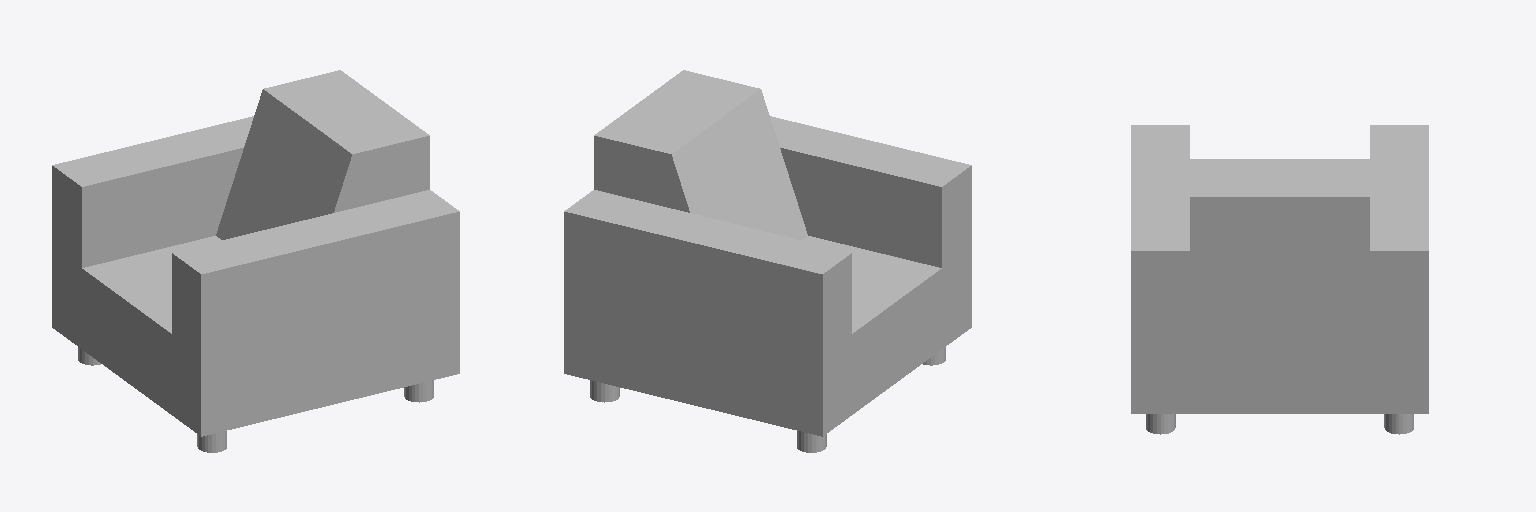
The model's file is Sofa.obj.
3 renders of one model, left to right at view 1: azimuth 30°, elevation 25°; view 2: azimuth 150°, elevation 25°; view 3: azimuth 270°, elevation 25°, orthographic.
Visible parts, largest first — view 1: Body1; view 2: Body1; view 3: Body1.
Boxes of the visible parts, box(x1,y1,x2,y2) form: Body1: box(52, 70, 459, 452); Body1: box(564, 70, 971, 452); Body1: box(1131, 125, 1428, 434).
Bounding box in the file's own units: 10 × 9 × 10.